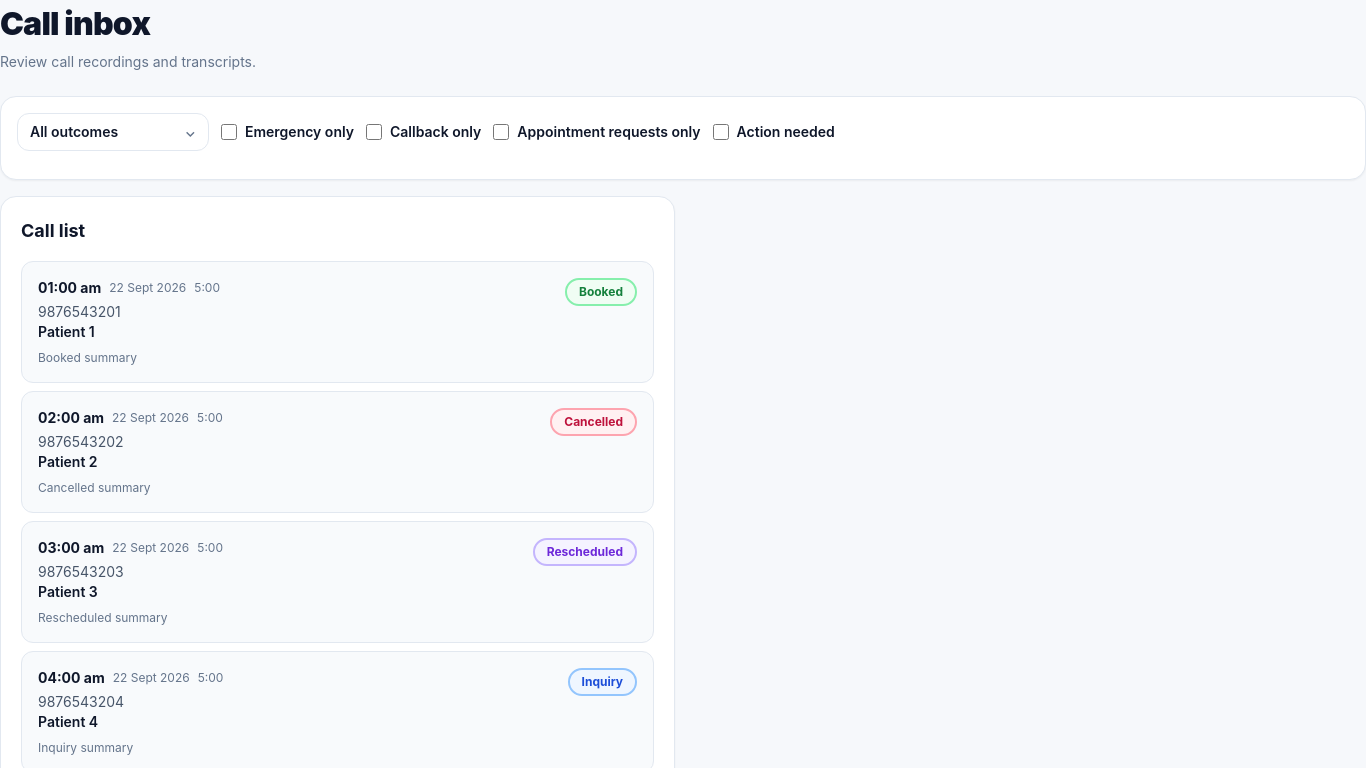
CallInboxPageContent › supports checkbox multi-selection with OR semantics and All outcomes reset
Expected: the text "Booked summary" is shown, top-left (38, 350), bottom-right (137, 365)
Click the button "All outcomes ⌄": {"x": 113, "y": 132} top-left (17, 113), bottom-right (209, 151)
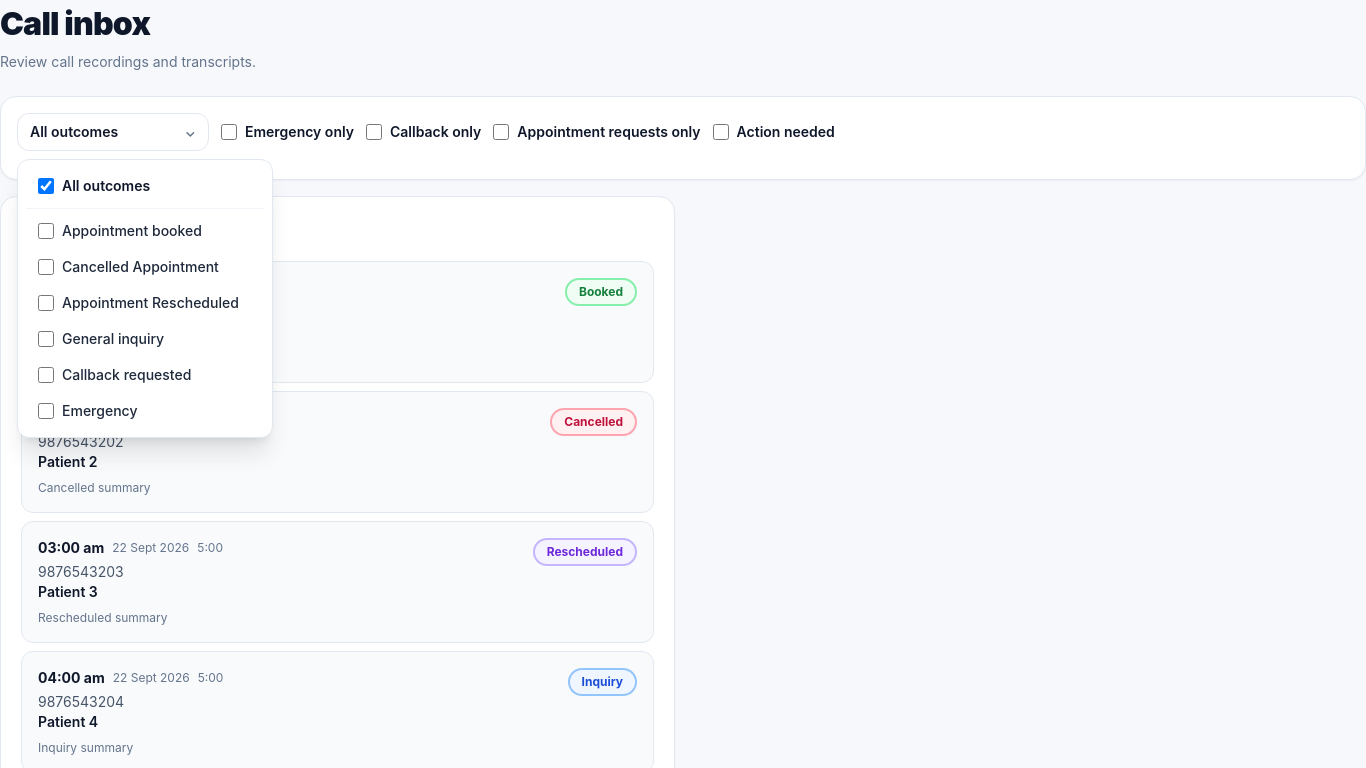
Expected: the dialog named "Filter by outcomes" is shown, top-left (17, 159), bottom-right (273, 438)
Click the checkbox labelled "Cancelled Appointment": {"x": 46, "y": 267} top-left (38, 259), bottom-right (54, 275)
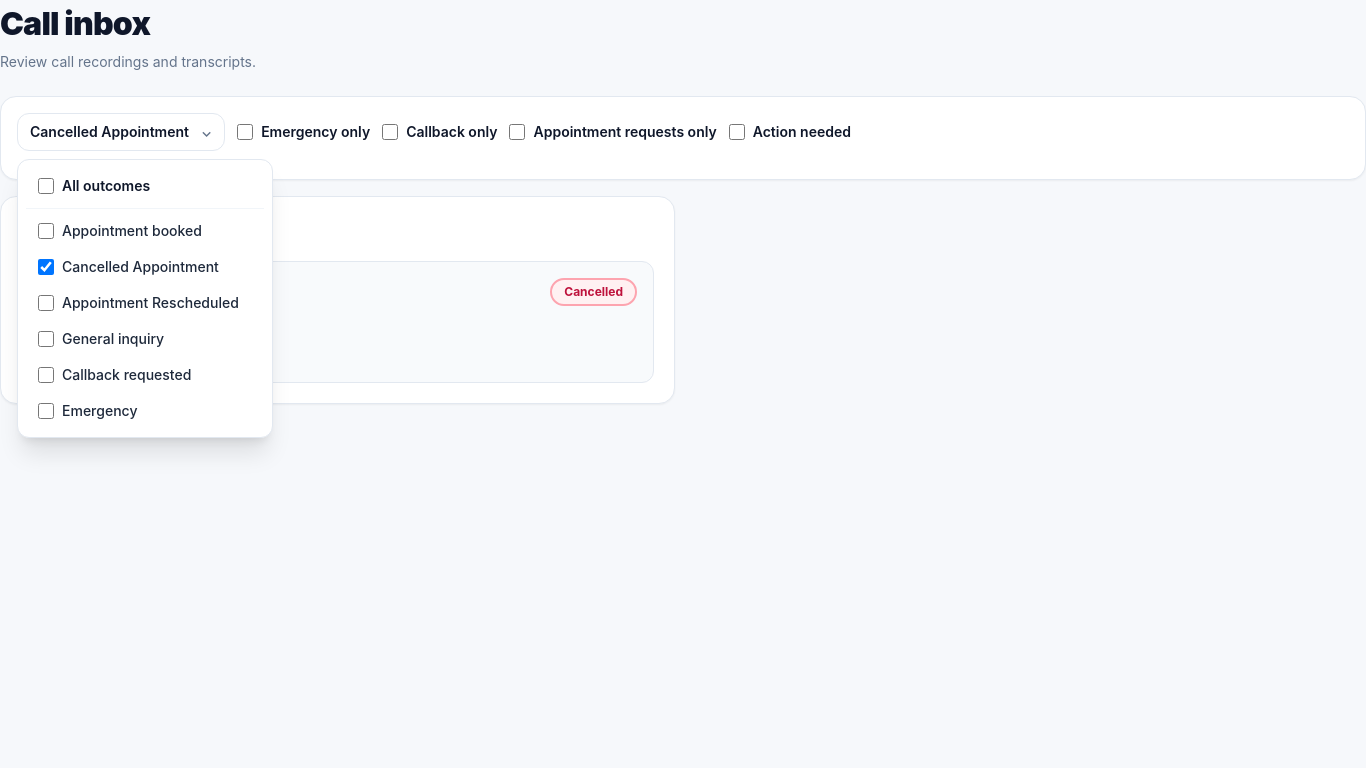
Expected: the text "Cancelled summary" is shown, top-left (38, 350), bottom-right (151, 365)
Expected: the button "Cancelled Appointment ⌄" is shown, top-left (17, 113), bottom-right (225, 151)
Click the checkbox labelled "Appointment Rescheduled": {"x": 46, "y": 303} top-left (38, 295), bottom-right (54, 311)
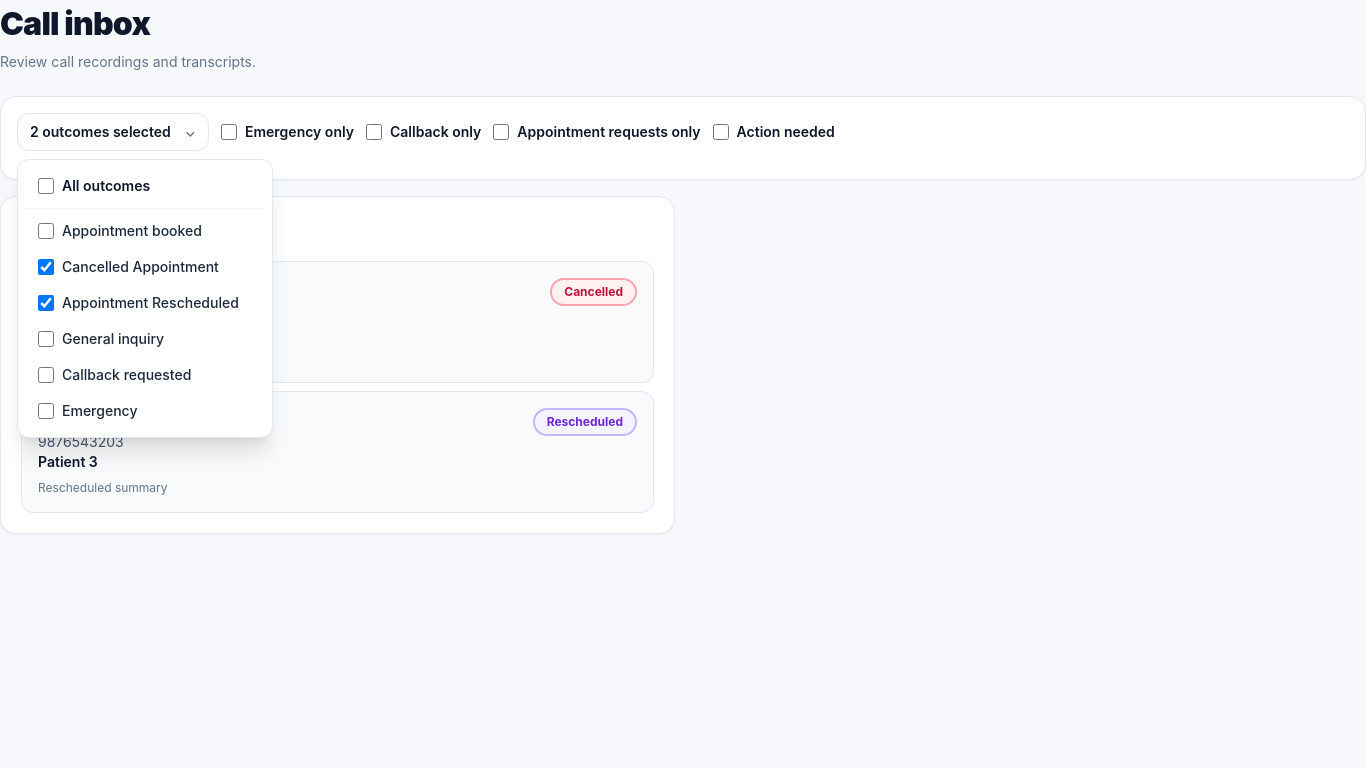
Expected: the text "Cancelled summary" is shown, top-left (38, 350), bottom-right (151, 365)
Expected: the button "2 outcomes selected ⌄" is shown, top-left (17, 113), bottom-right (209, 151)
Expected: the text "Rescheduled summary" is shown, top-left (38, 480), bottom-right (168, 495)
Click the checkbox labelled "All outcomes": {"x": 46, "y": 186} top-left (38, 178), bottom-right (54, 194)
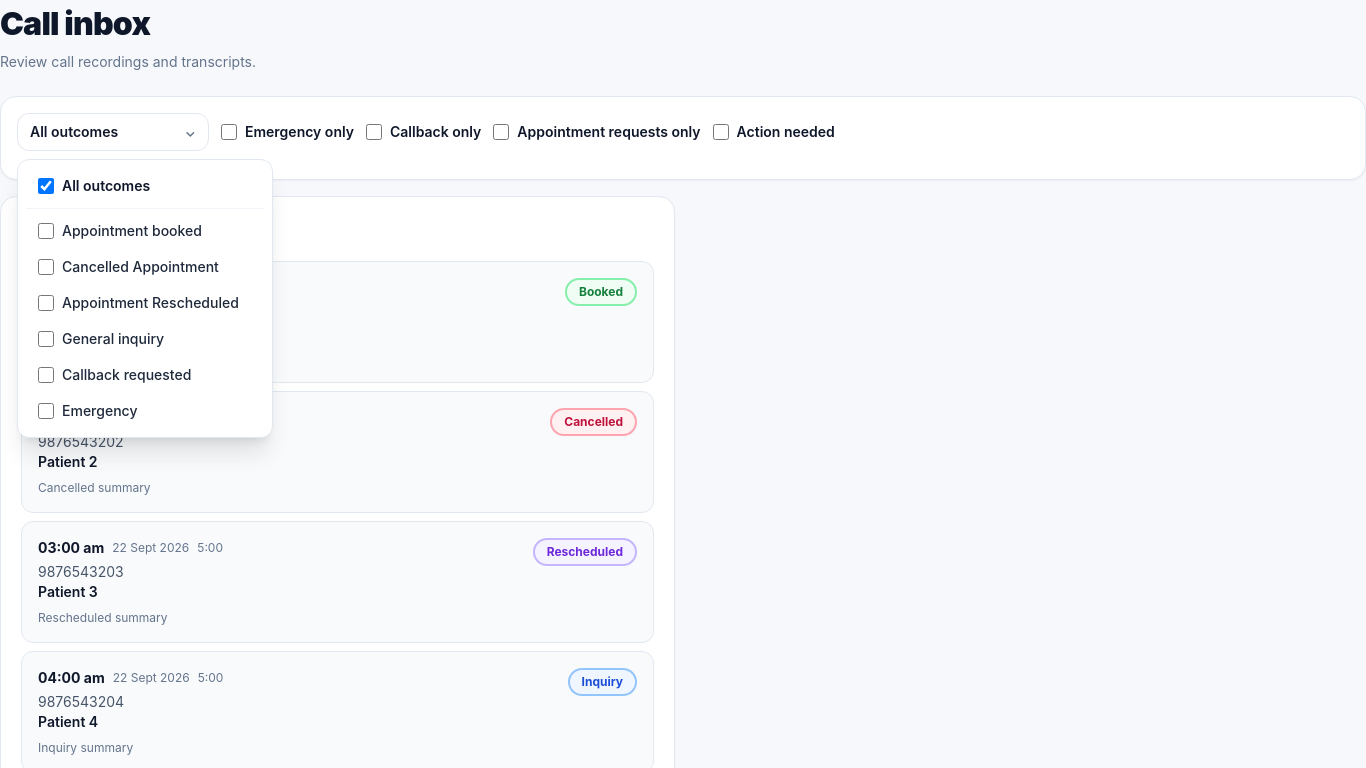
Expected: the text "Booked summary" is shown, top-left (38, 350), bottom-right (137, 365)
Expected: the text "Inquiry summary" is shown, top-left (38, 740), bottom-right (133, 755)
